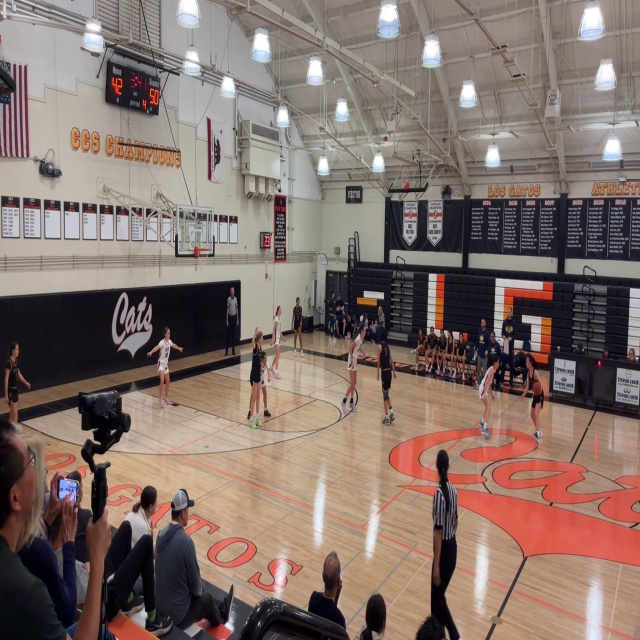Basketball: (533, 382, 542, 394)
